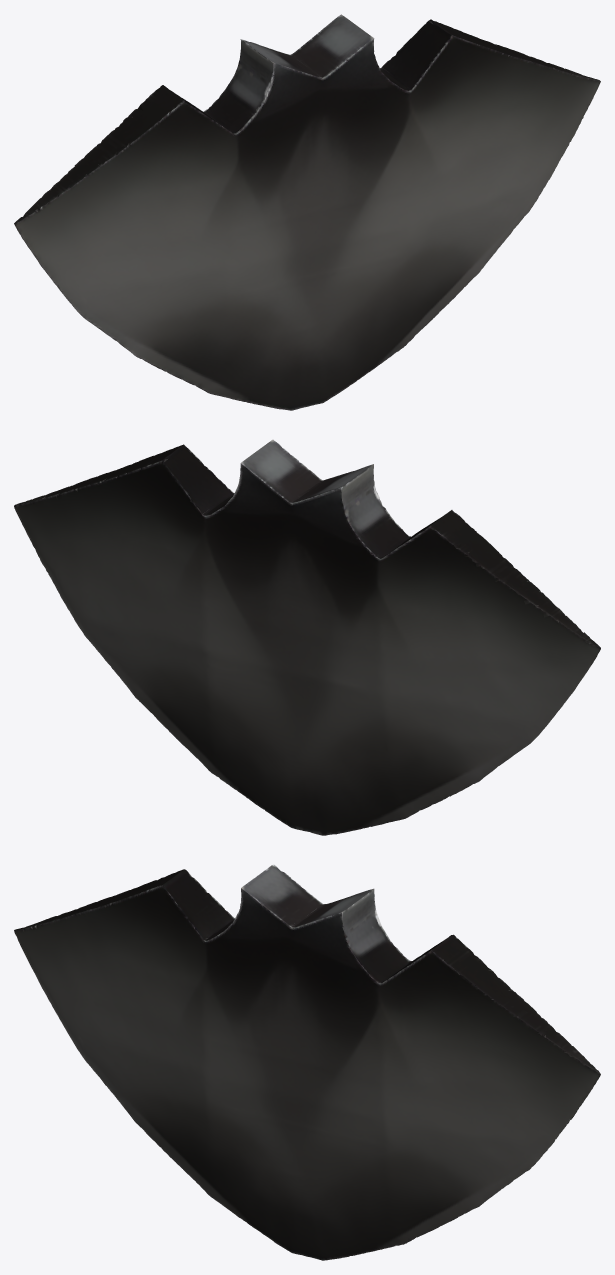
File: phantom_wing_L.glb
3 renders of one model, top to bottom at view 1: azimuth 30°, elevation 25°; view 2: azimuth 150°, elevation 25°; view 3: azimuth 330°, elevation 25°, orthographic.
Visible parts, largest first — view 1: phantom_wing_L; view 2: phantom_wing_L; view 3: phantom_wing_L.
Part boxes in pixels (x1,y1,x2,y2): phantom_wing_L: (14,14,600,410); phantom_wing_L: (14,439,600,835); phantom_wing_L: (14,864,600,1260).
Bounding box in the file's own units: 1.89 × 1.13 × 0.184.
Materials: 1 (1 with a texture image).
